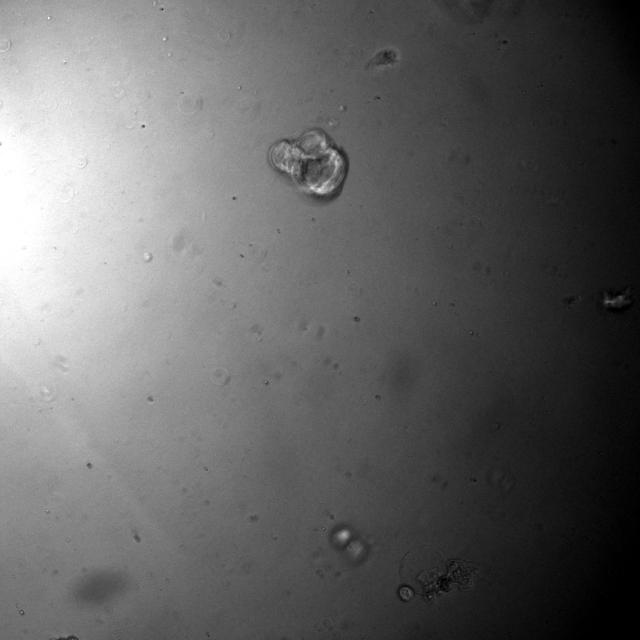organoid: (268, 128, 348, 199), (396, 547, 478, 603), (329, 524, 369, 564), (366, 46, 399, 70)
